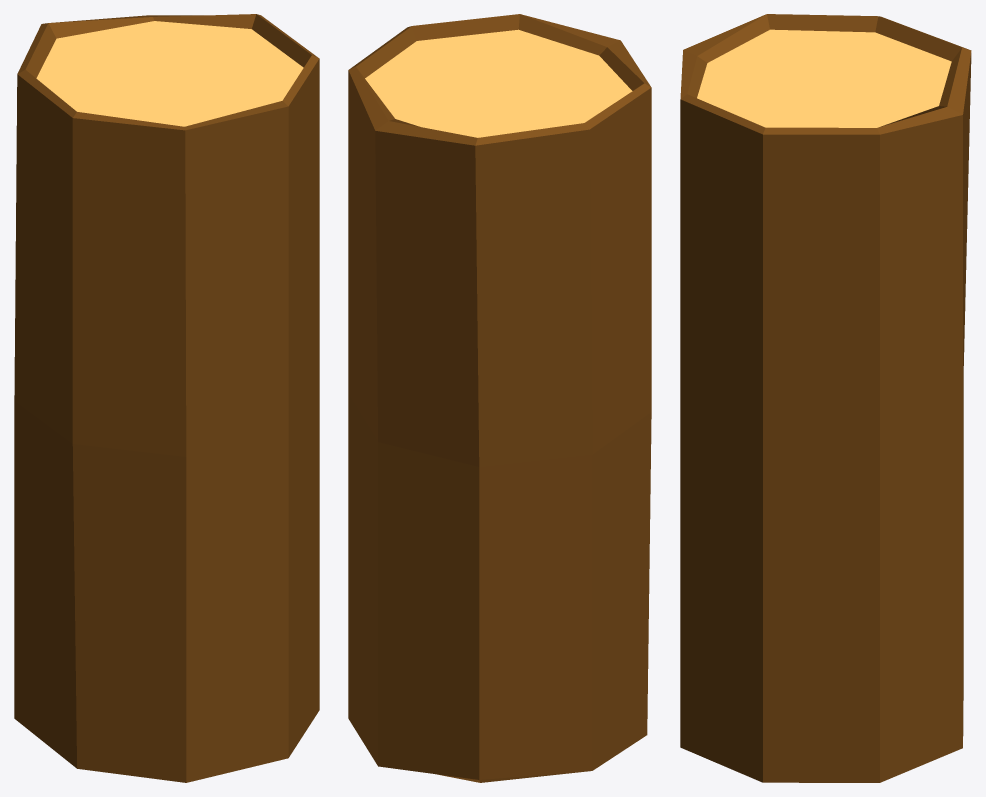
Rendered from Log.fbx.
The picture shows the model from 3 angles, left to right: view 1: azimuth 30°, elevation 25°; view 2: azimuth 150°, elevation 25°; view 3: azimuth 270°, elevation 25°; orthographic projection.
Visible parts, largest first — view 1: Log; view 2: Log; view 3: Log.
Part boxes in pixels (left/top/right/bottom): Log: left=14, top=14, right=319, bottom=782; Log: left=348, top=14, right=651, bottom=782; Log: left=680, top=14, right=971, bottom=782.
Size of the model in its own units: 185 by 471 by 190.
